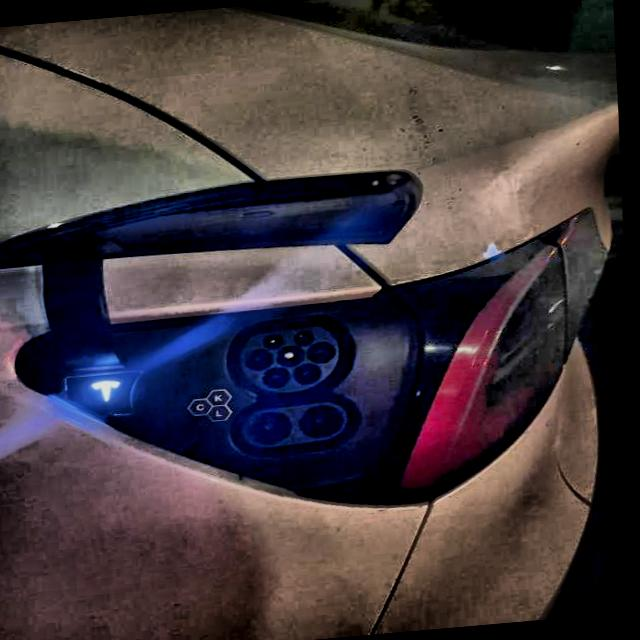inlet: (243, 325, 343, 393)
inlet-above-left: (266, 333, 287, 348)
inlet-above-right: (297, 330, 316, 345)
inlet-below-left: (266, 367, 294, 388)
inlet-below-right: (296, 363, 323, 385)
inlet-center: (280, 345, 307, 367)
inlet-center-left: (249, 349, 276, 370)
inlet-center-right: (311, 341, 338, 363)
